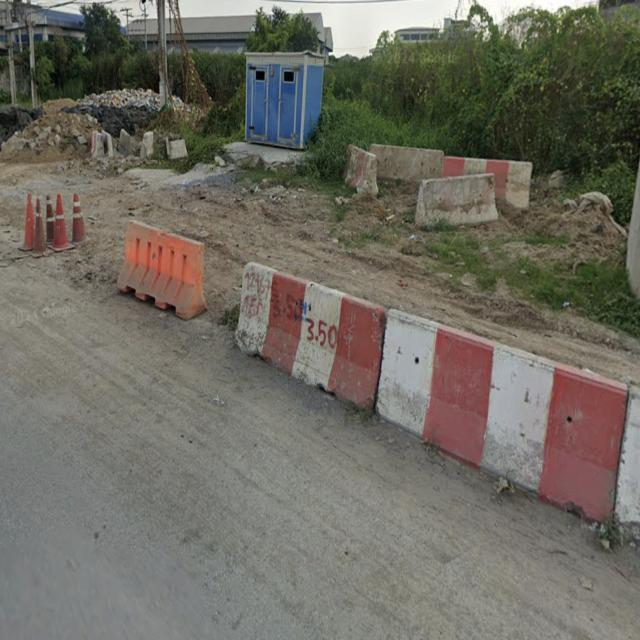fallen_object: (367, 290, 637, 529), (212, 250, 387, 436), (107, 200, 213, 335), (72, 103, 228, 174), (0, 178, 103, 271), (390, 160, 512, 235), (320, 120, 390, 223), (435, 139, 538, 207), (355, 140, 446, 194)
